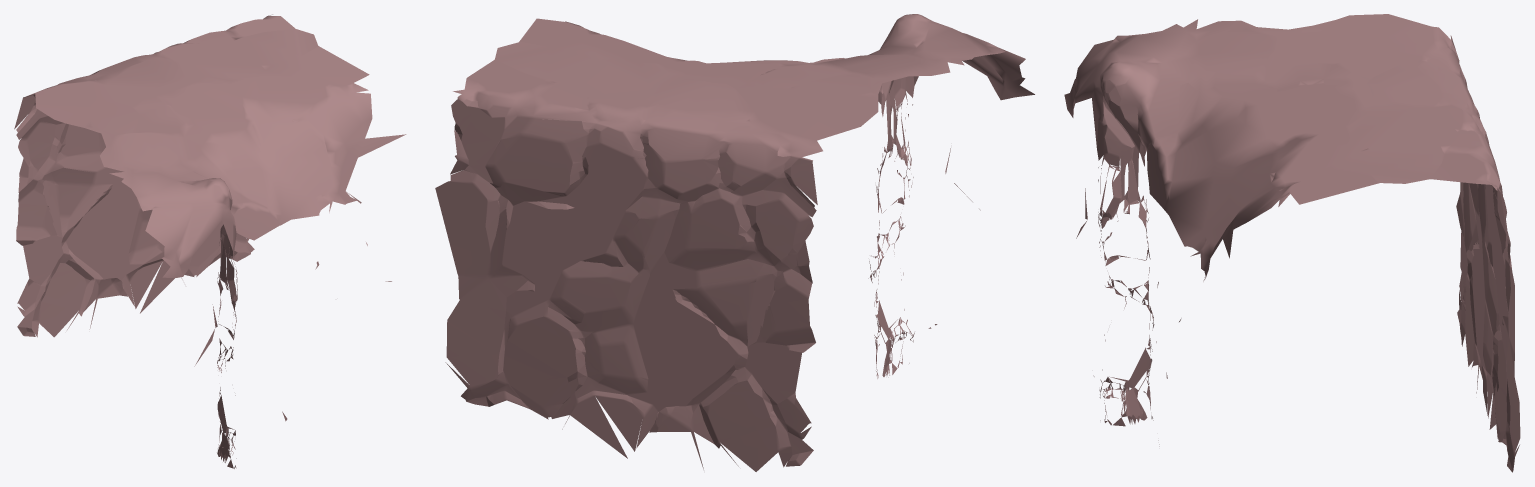
The model's file is canyon.fbx_PolyShape__3__019LODs.fbx.
3 views of the same model, side by side, from view 1: azimuth 30°, elevation 25°; view 2: azimuth 150°, elevation 25°; view 3: azimuth 270°, elevation 25° (orthographic). The views are drawn at different scales.
Visible parts, largest first — view 1: PolyShape (3).019_LOD0; view 2: PolyShape (3).019_LOD0; view 3: PolyShape (3).019_LOD0.
Part boxes in pixels (<box>): PolyShape (3).019_LOD0: <box>14,14,406,468</box>; PolyShape (3).019_LOD0: <box>435,14,1034,471</box>; PolyShape (3).019_LOD0: <box>1064,14,1520,472</box>.
Size of what is drawn, in the model's own units: 4896 by 4415 by 5024.
